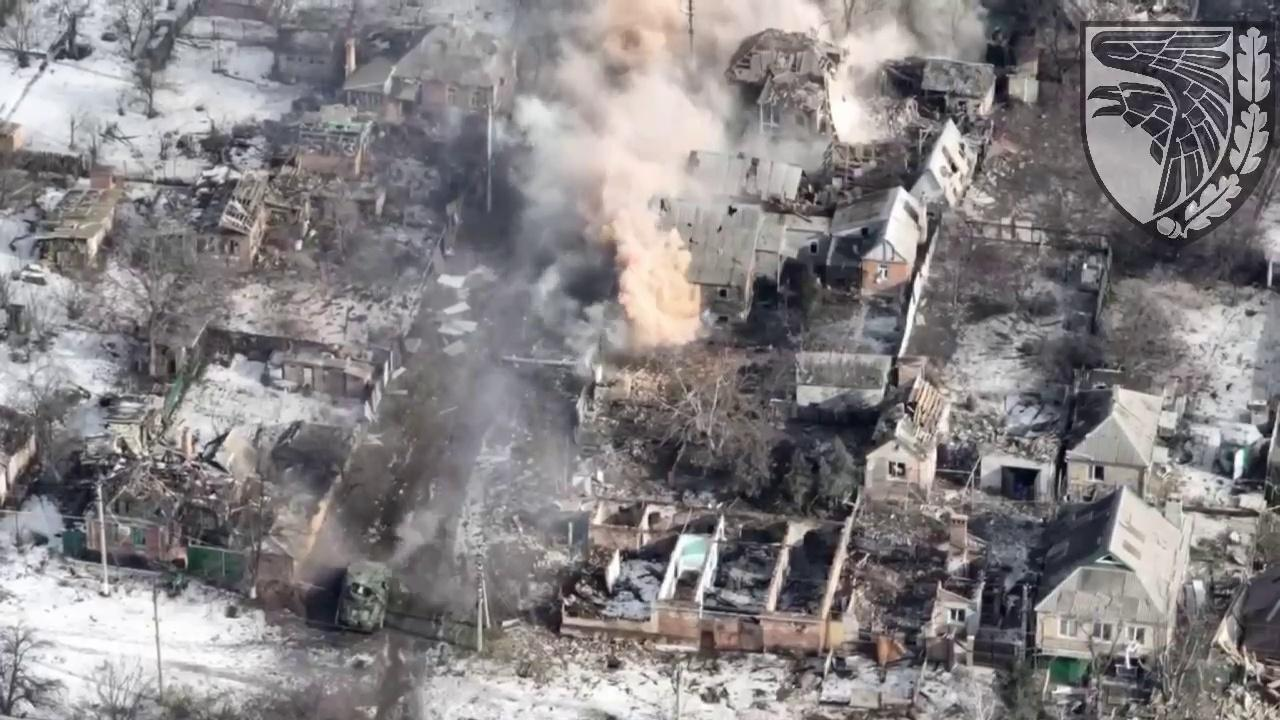vehicle: (334, 554, 394, 640)
